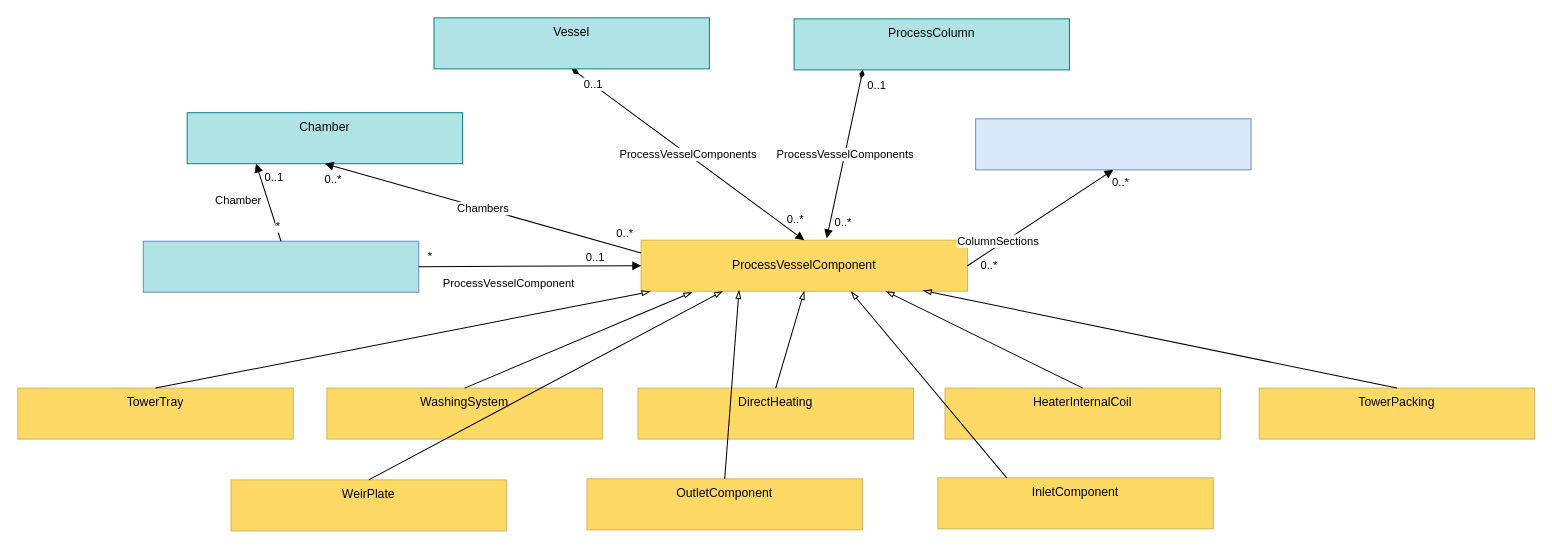
Some shapes in this 1552 by 549 pixel diagram are drawn without their labels. Each missing label, with the centre of its shape:
ColumnSection: (x=1113, y=144)
Nozzle: (x=280, y=266)
